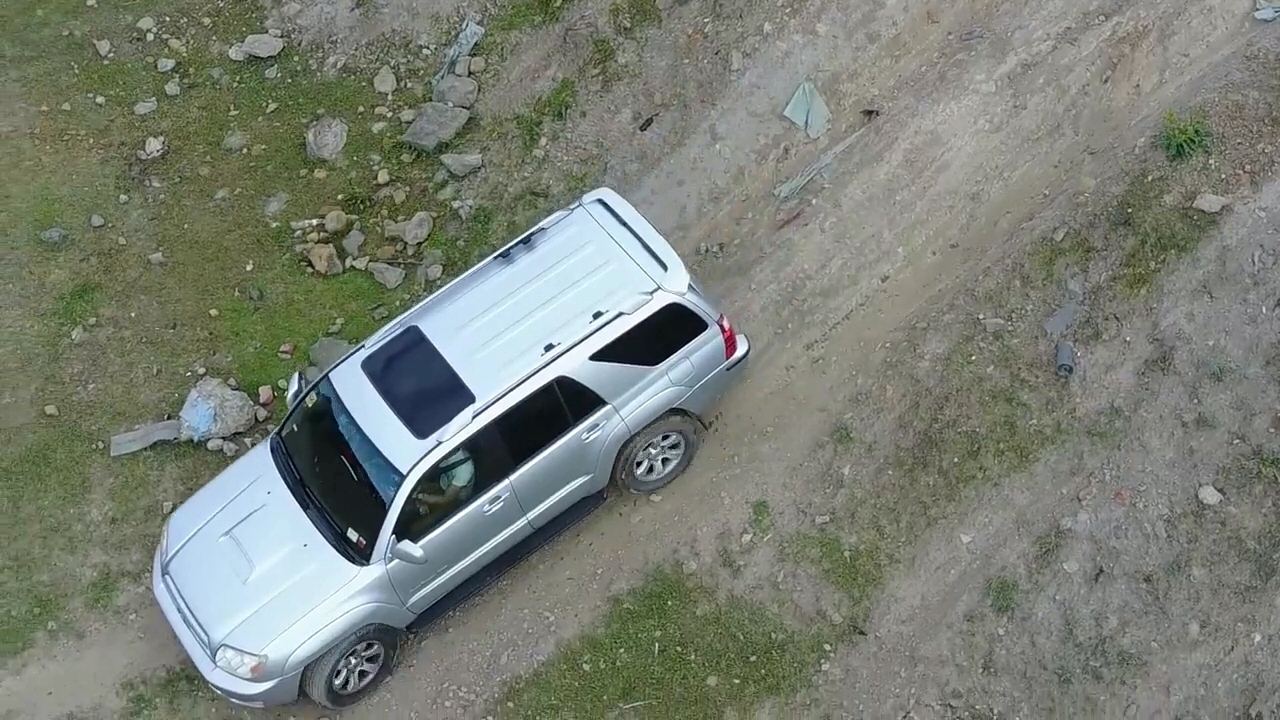araba: (154, 182, 752, 713)
